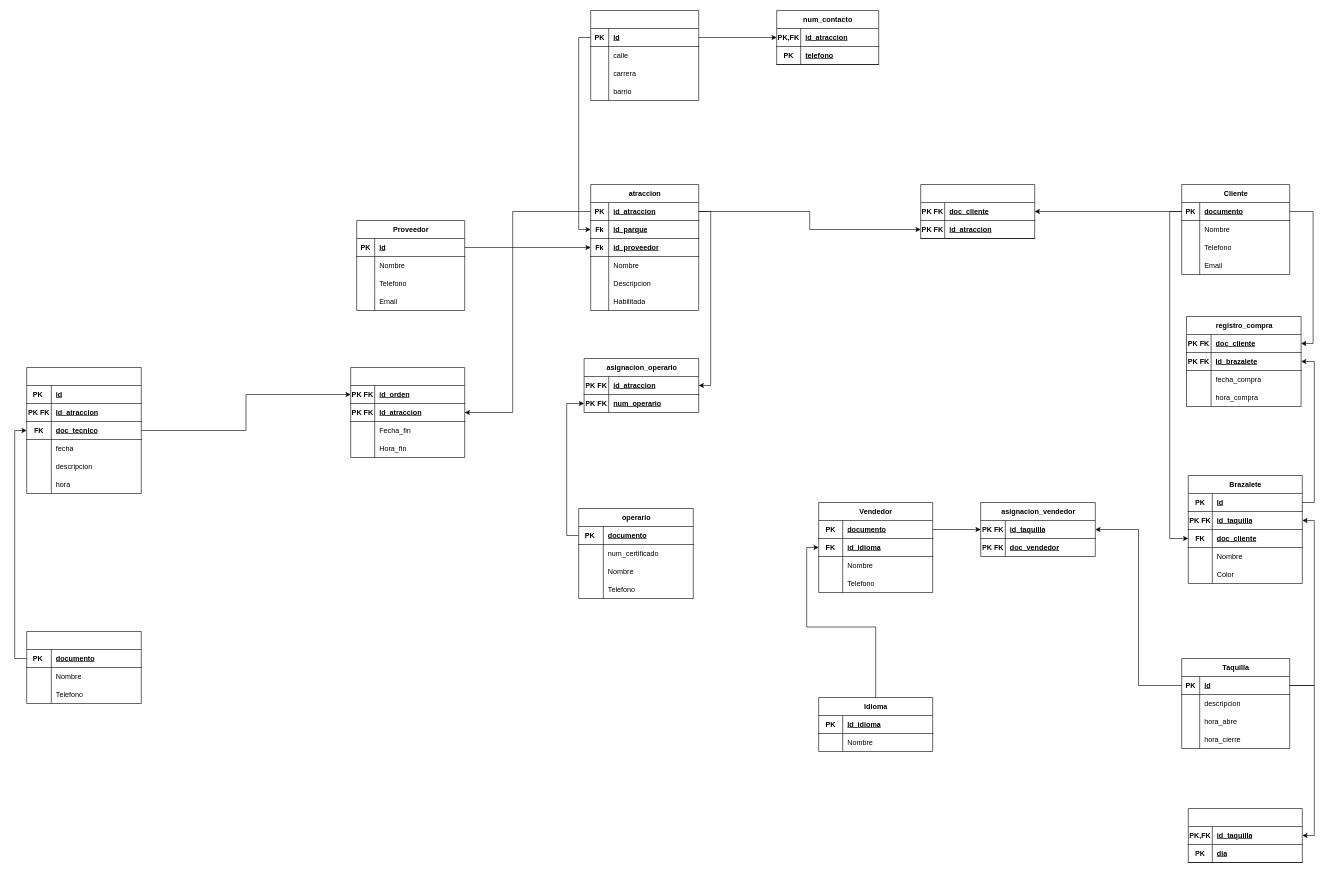
The diagram is 1330 pixels wide and 873 high, and some of its shapes have lost their labels. The box of each missing label's shape, as (x1, y1, x2, y2) in pixels:
acceso: (920, 184, 1035, 238)
dia_servicio: (1188, 808, 1302, 862)
orden_servicio: (26, 367, 141, 494)
parque_norte: (590, 10, 699, 100)
registro_orden: (350, 367, 465, 458)
tecnico: (26, 631, 141, 704)
